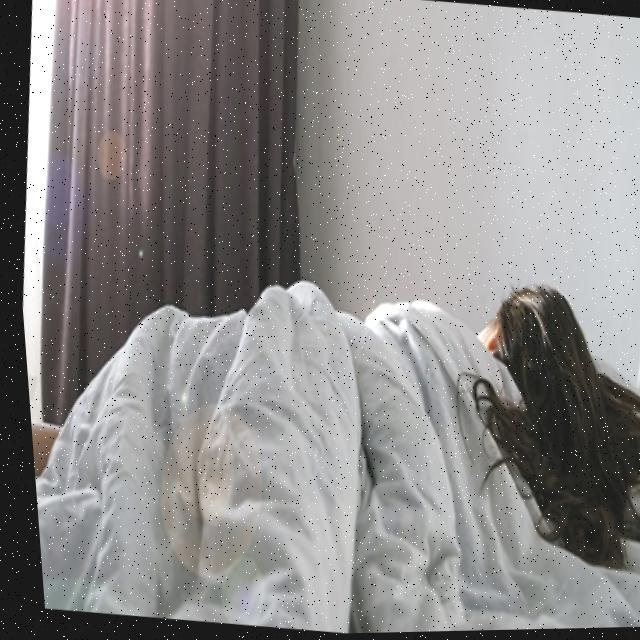sleeping-person: (12, 202, 640, 640)
